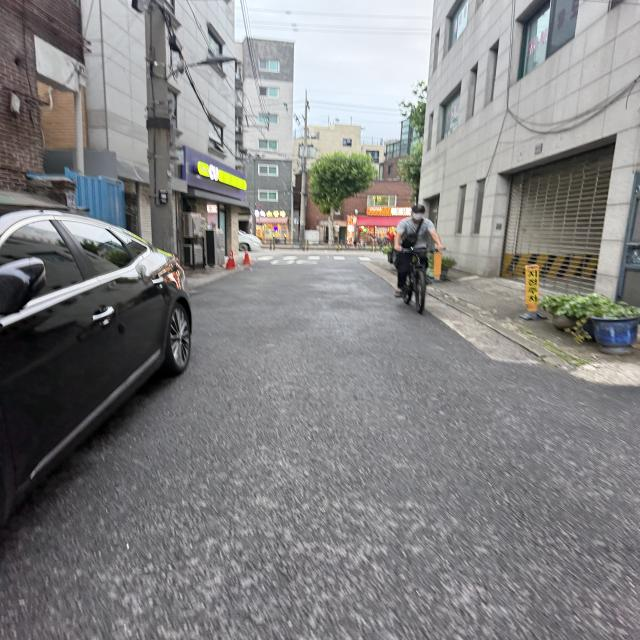bicycle: (385, 193, 449, 318)
car: (3, 174, 228, 586)
